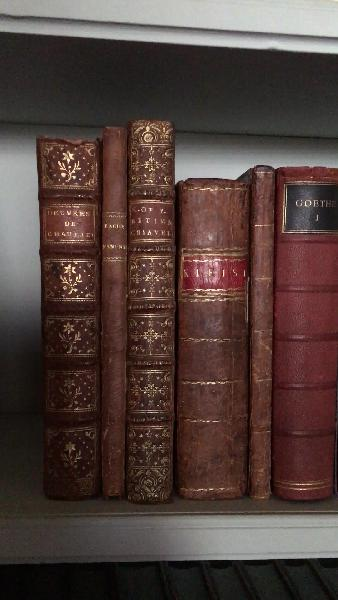Aa6-10: (246, 158, 272, 498)
Aa6-6: (39, 137, 103, 497)
Aa6-7: (98, 120, 133, 497)
Aa6-8: (125, 111, 177, 504)
Aa6-9: (177, 174, 253, 500)
